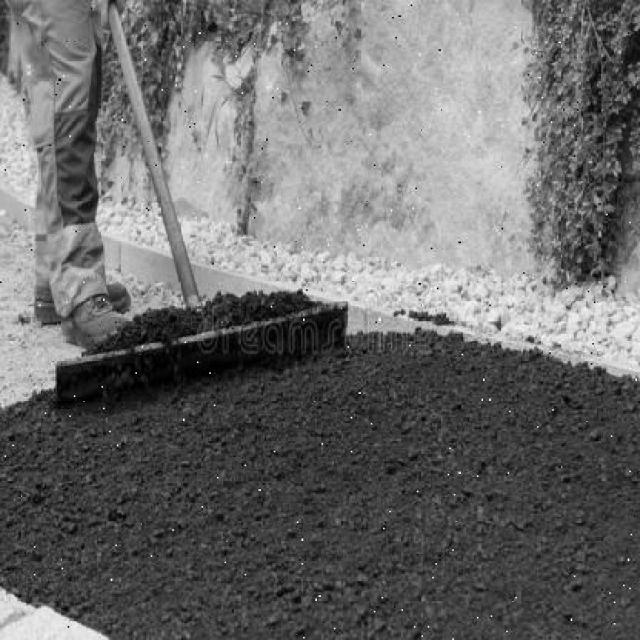shoes: (64, 300, 125, 349)
